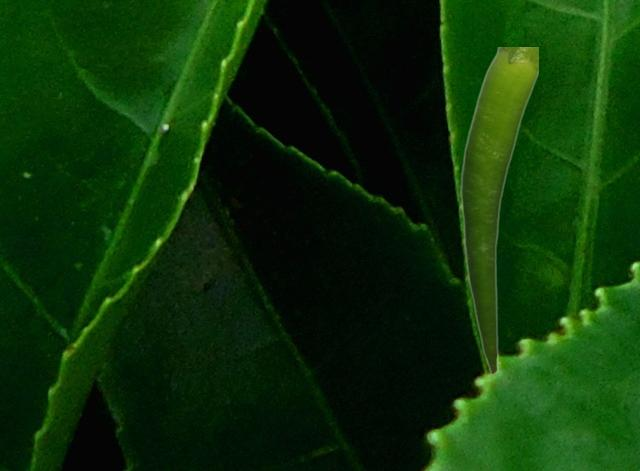green_chili: (460, 47, 537, 374)
